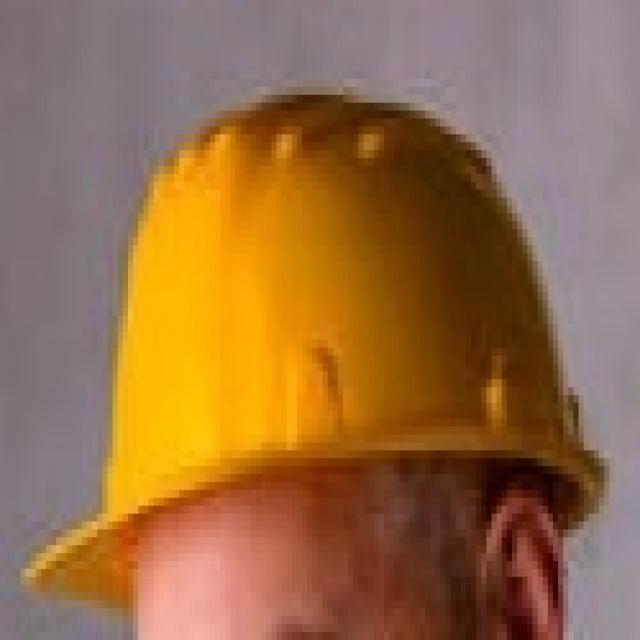safety_helmet: (23, 82, 611, 613)
